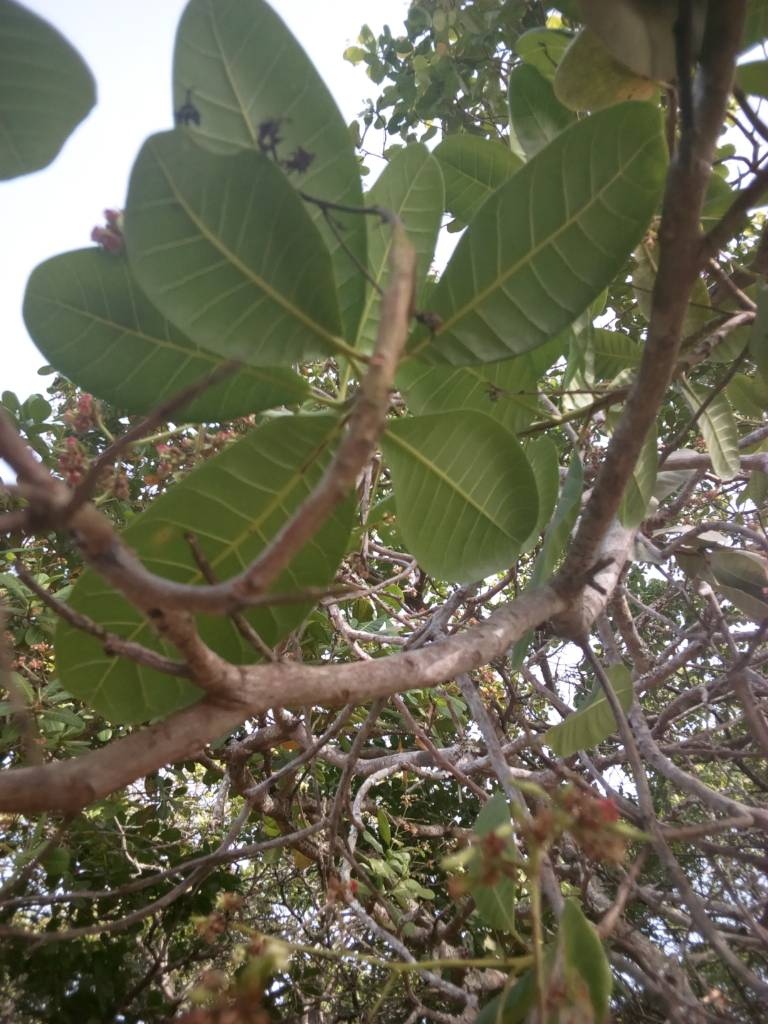Dessèchement des bourgeons: (265, 121, 408, 225)
